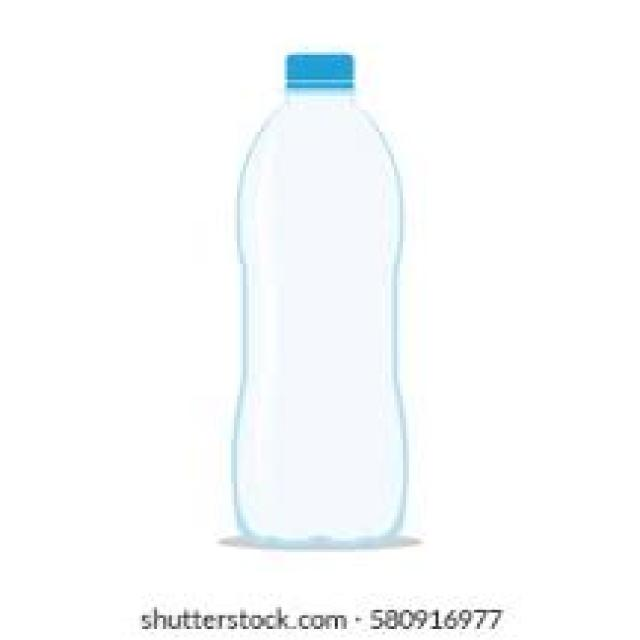plastic cup: (237, 54, 405, 547)
